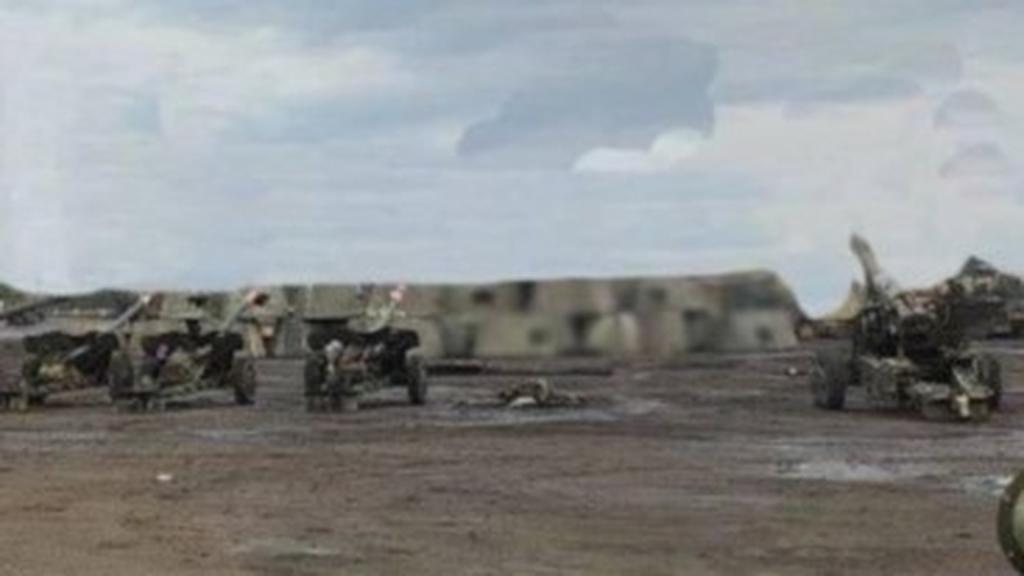ART: (792, 230, 1004, 424), (104, 288, 276, 418), (298, 274, 434, 420), (8, 290, 156, 406)
